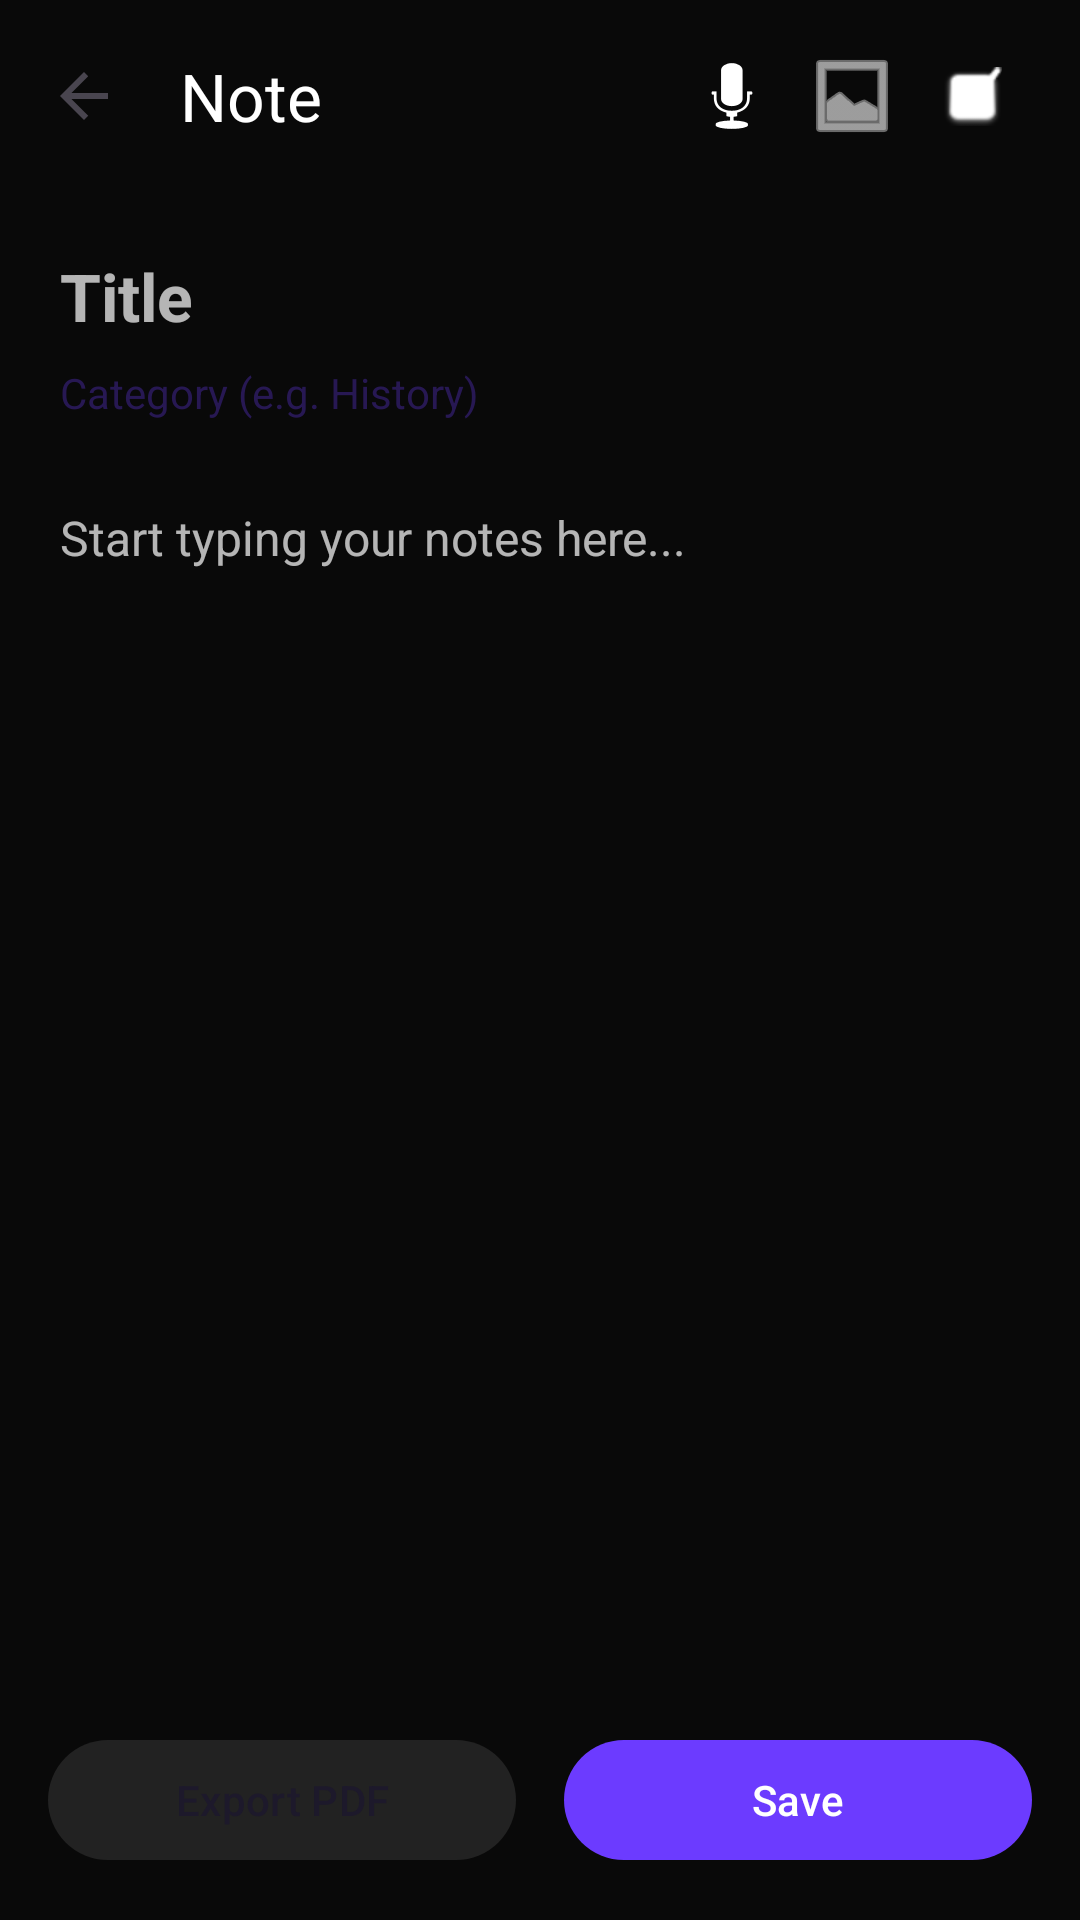

Icons on this 1080px×1920px Android screen, each with the point to tap as [x,y]:
gallery: [852,96]
speak now: [732,96]
